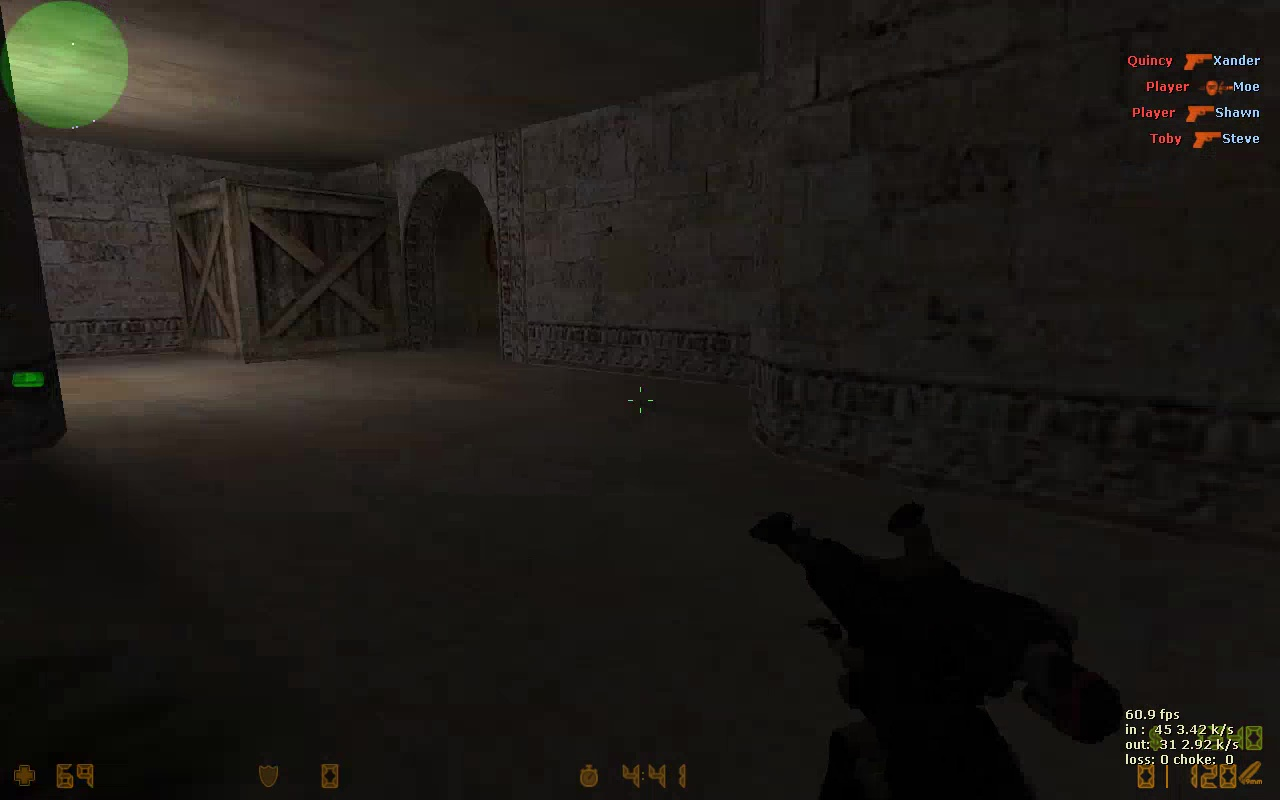dead: (746, 500, 1124, 744)
